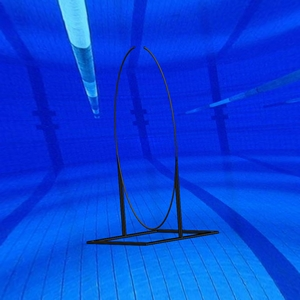circle: (86, 45, 220, 246)
